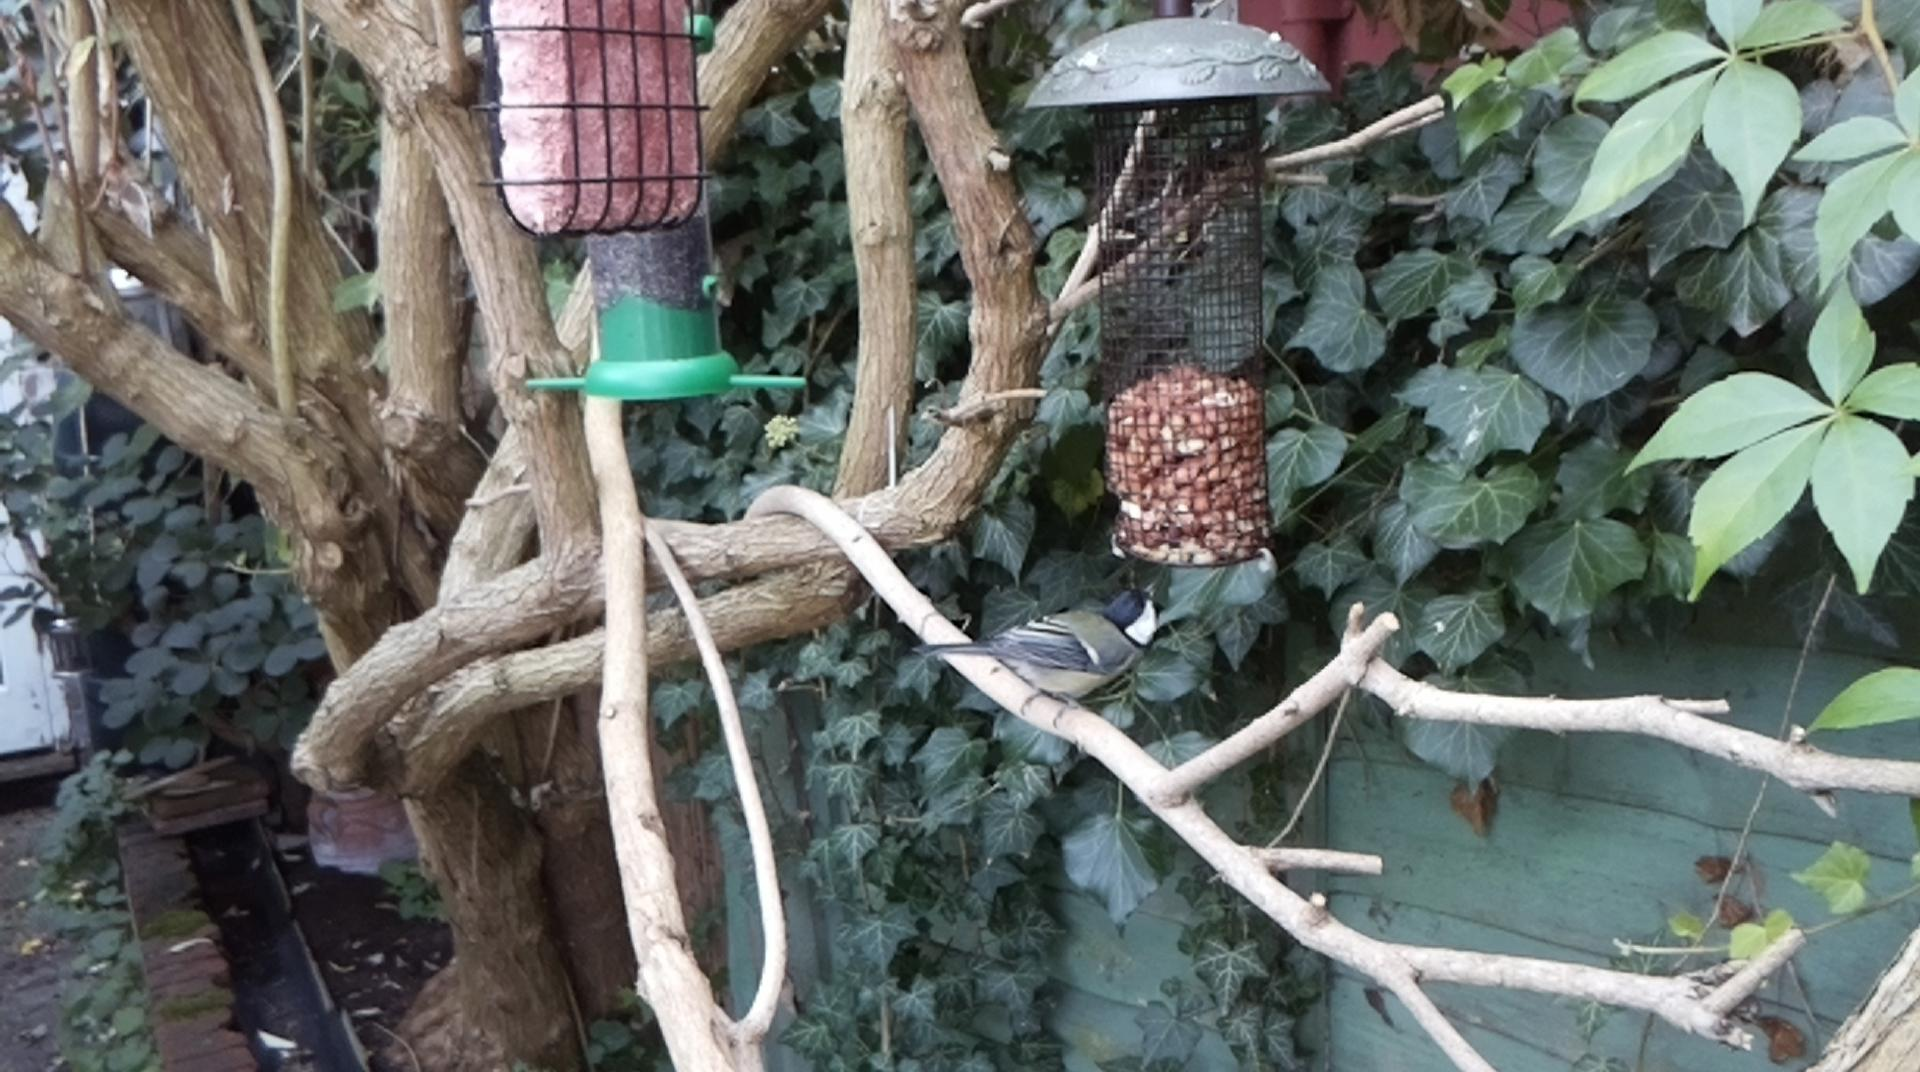great tit: (910, 580, 1162, 729)
